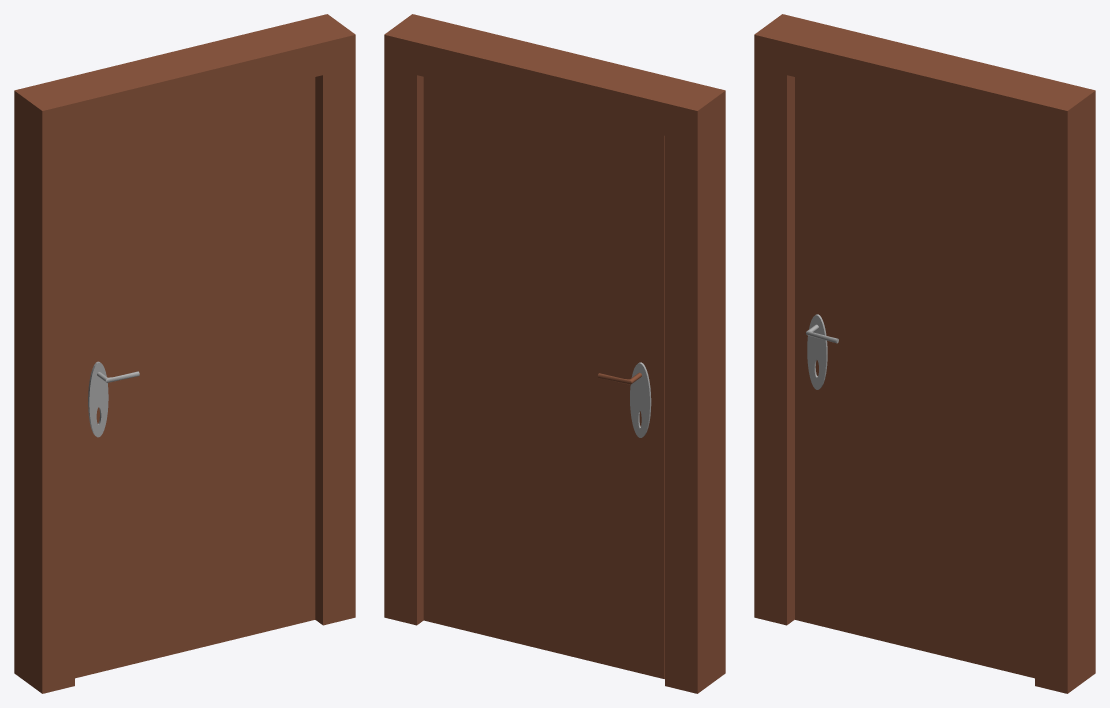
File: genericdoor.fbx
3 views of the same model, side by side, from view 1: azimuth 30°, elevation 25°; view 2: azimuth 150°, elevation 25°; view 3: azimuth 330°, elevation 25° (orthographic).
Parts seen in each view (by area): view 1: door, door_frame; view 2: door, door_frame; view 3: door, door_frame.
Boxes of the visible parts, box(x1,y1,x2,y2) form: door: box(75, 77, 315, 678); door_frame: box(14, 14, 355, 693); door: box(423, 77, 664, 678); door_frame: box(384, 14, 725, 693); door: box(795, 77, 1034, 678); door_frame: box(754, 14, 1095, 693).
Size of the model in its own units: 153 by 272 by 38.69.
